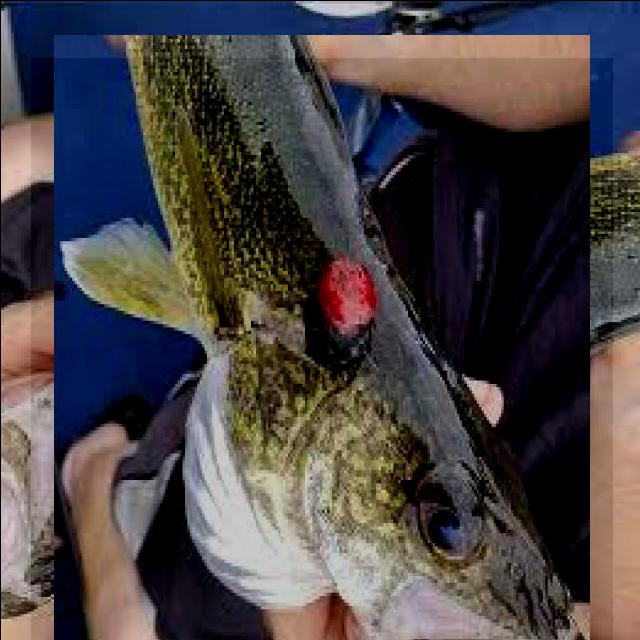EUS Disease: (30, 57, 612, 639), (231, 247, 439, 454)
